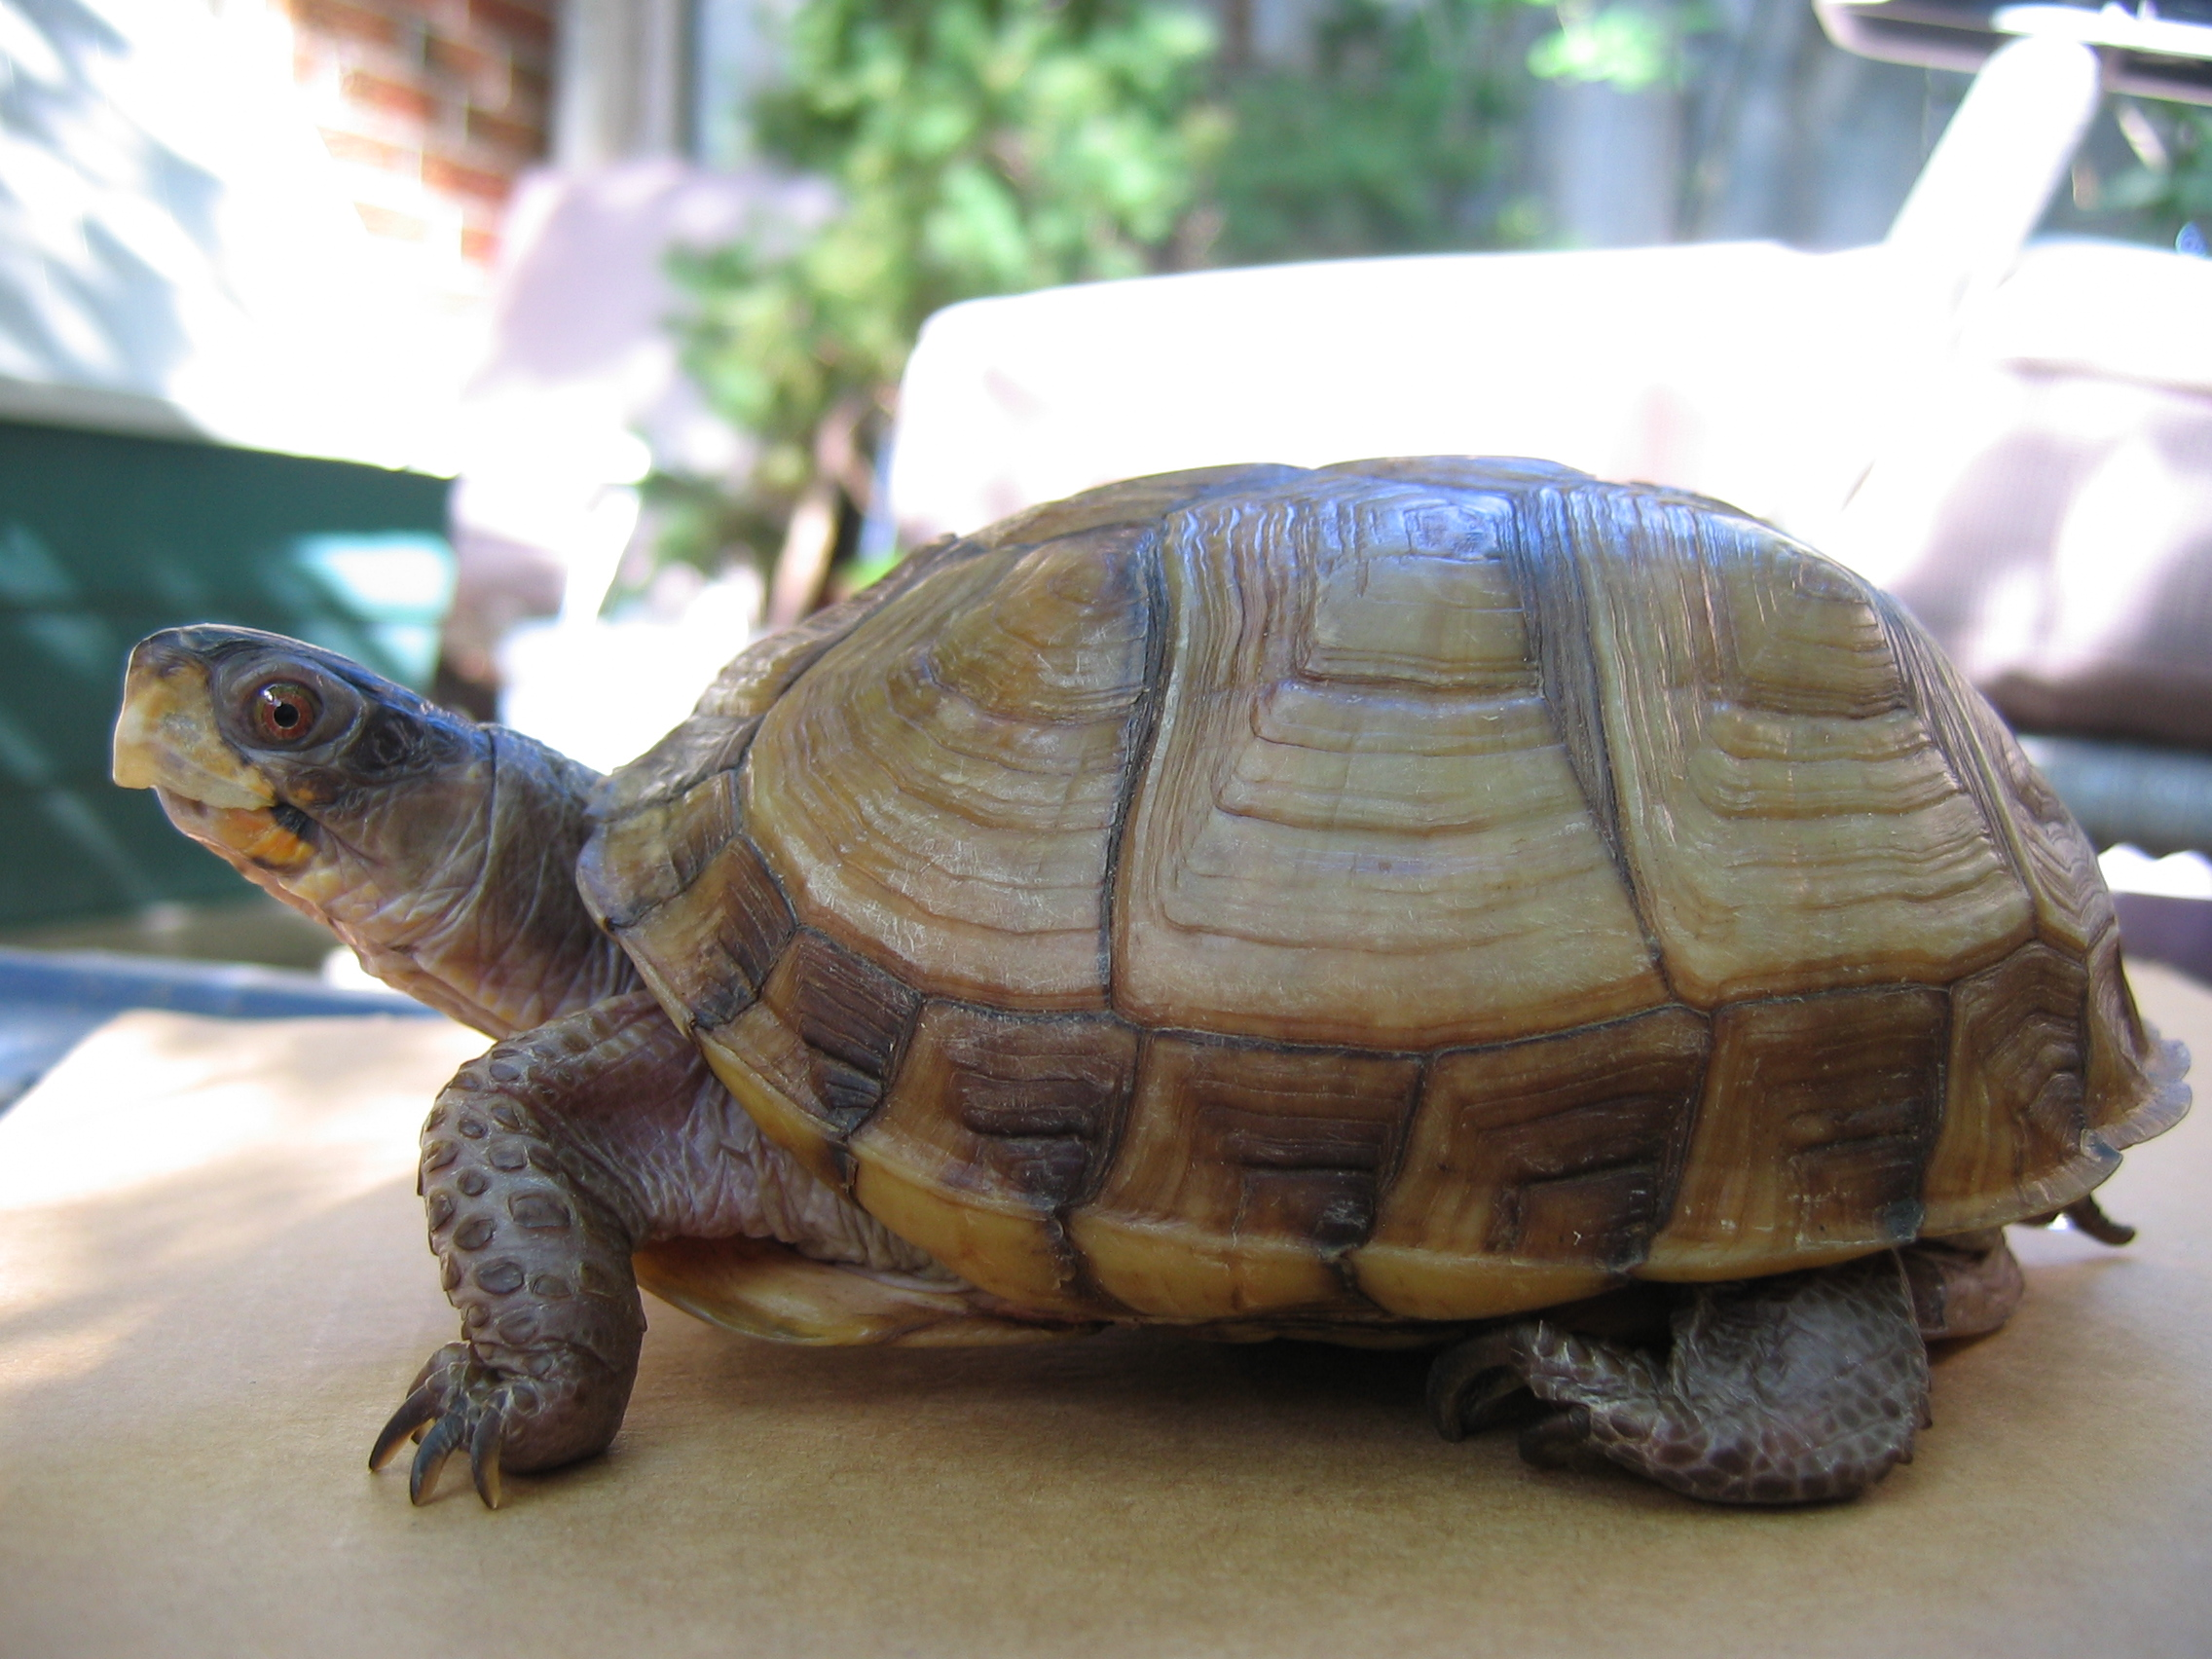eye: (218, 657, 352, 767)
mouth: (115, 769, 357, 861)
